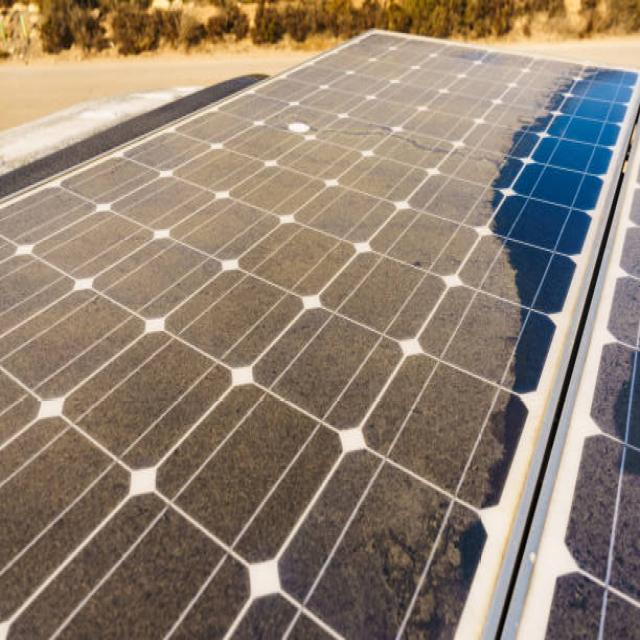dust-solar-panel: (0, 28, 582, 640)
